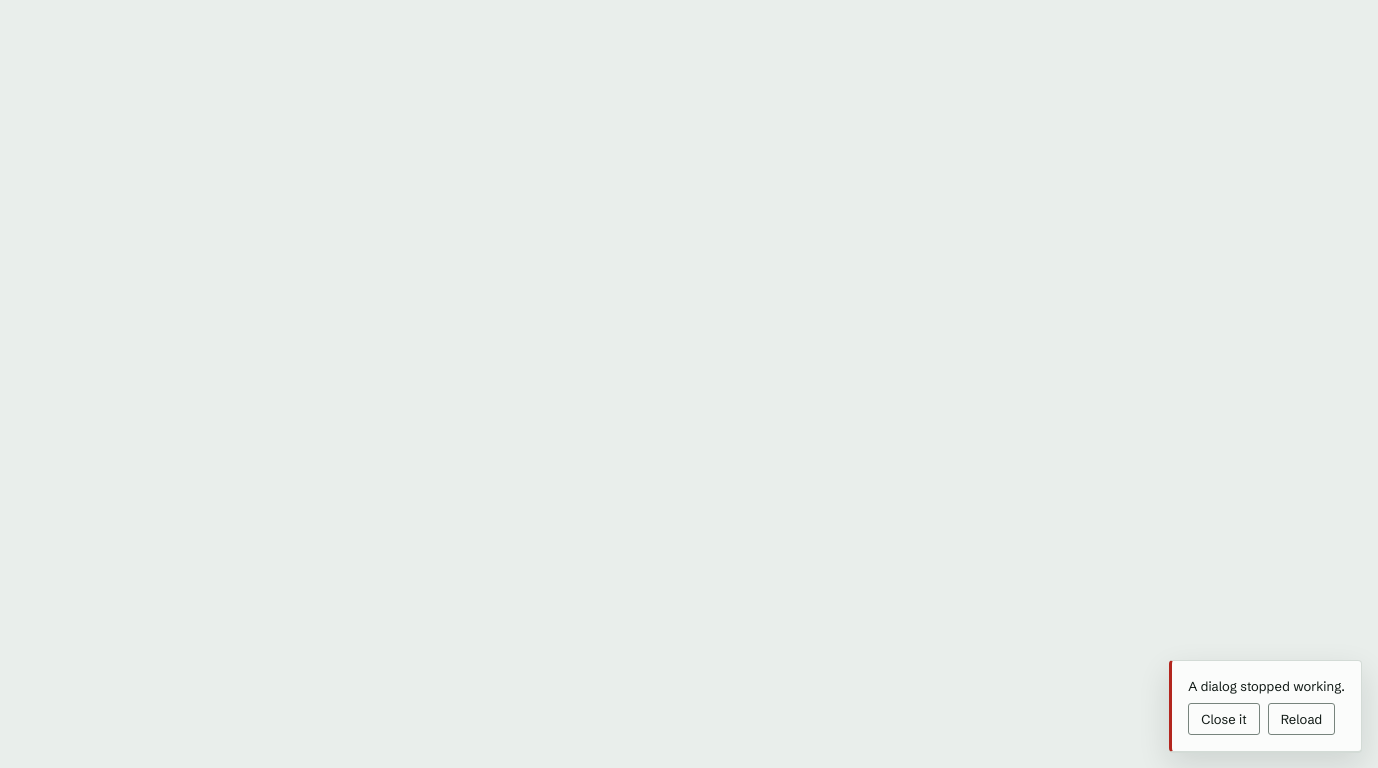
Test: ErrorBoundary › renders the part again on Try again, after onReset
Expected: the message shows "A dialog stopped working.", [1169, 660, 1362, 752]
Step 1. Click the button "Close it" → click(1224, 719), box [1188, 703, 1260, 735]
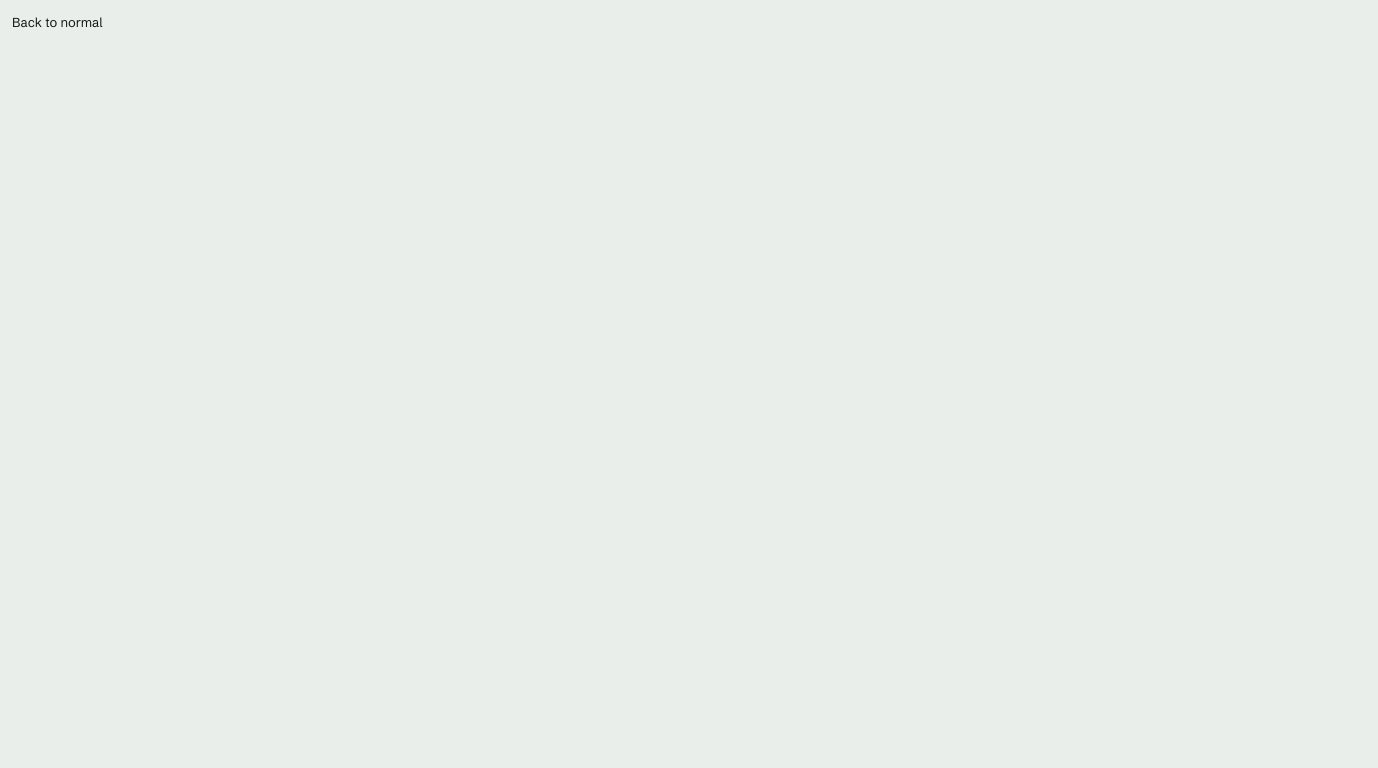
Result: the text "Back to normal" is shown at [12, 14, 103, 30]
Result: the message with class "error-fallback" is gone
